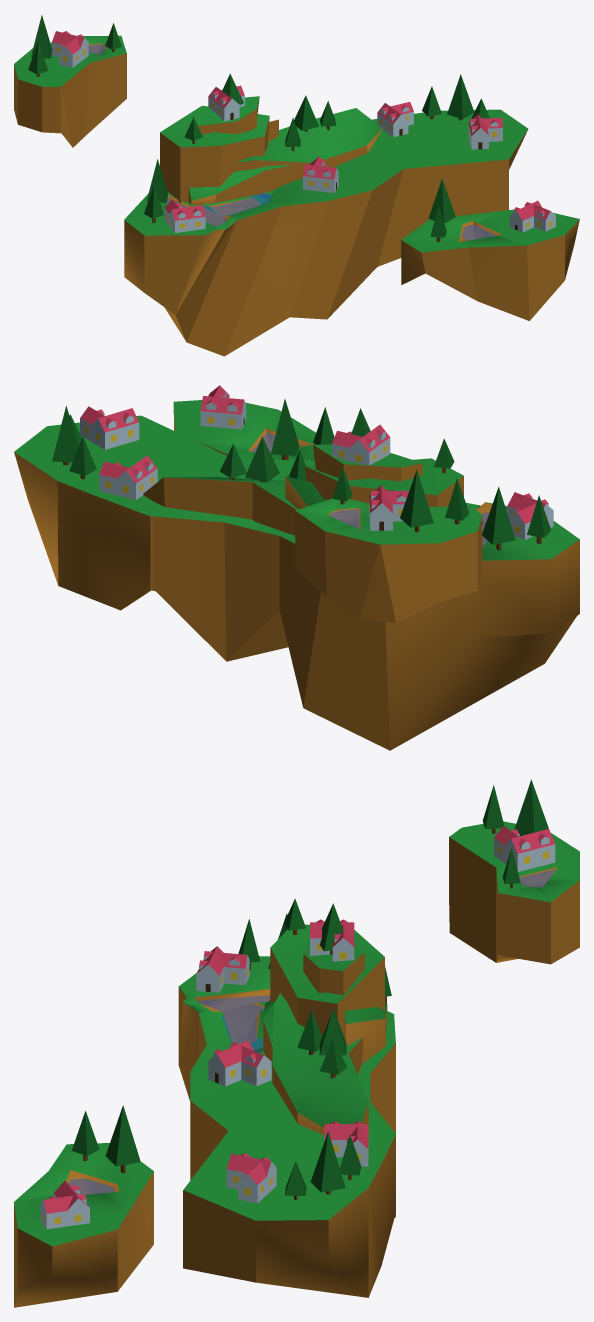
File: islands.dae
The picture shows the model from 3 angles, top to bottom: view 1: azimuth 30°, elevation 25°; view 2: azimuth 150°, elevation 25°; view 3: azimuth 270°, elevation 25°; orthographic projection. The views are drawn at different scales.
Visible parts, largest first — view 1: mainisland, miniisland, float_island, midmount, Cube (×7), mount, Pyramid (×5), mountbott, tip, water2, Cube.3; view 2: mainisland, float_island, Pyramid (×10), Cube (×6), mount, miniisland, midmount, tip, Cube.3 (×3), mountbase2; view 3: mainisland, miniisland, float_island, mount, Cube (×6), midmount, Pyramid (×5), Cube.3 (×4), tip, water2, mountbase2.
Boxes of the visible parts, left/top/right/bottom form: mainisland: left=124, top=109, right=528, bottom=356; miniisland: left=401, top=209, right=579, bottom=320; float_island: left=14, top=35, right=126, bottom=147; midmount: left=160, top=105, right=269, bottom=203; Cube (×7): left=52, top=31, right=542, bottom=232; mount: left=236, top=108, right=382, bottom=180; Pyramid (×5): left=31, top=15, right=474, bottom=223; mountbott: left=188, top=165, right=294, bottom=204; tip: left=193, top=96, right=259, bottom=134; water2: left=166, top=193, right=271, bottom=225; Cube.3: left=59, top=37, right=80, bottom=67; mainisland: left=14, top=415, right=579, bottom=750; float_island: left=295, top=498, right=482, bottom=622; Pyramid (×10): left=52, top=399, right=551, bottom=544; Cube (×6): left=92, top=396, right=553, bottom=530; mount: left=143, top=477, right=297, bottom=535; miniisland: left=173, top=400, right=315, bottom=460; midmount: left=305, top=458, right=463, bottom=506; tip: left=313, top=444, right=422, bottom=481; Cube.3 (×3): left=99, top=430, right=536, bottom=539; mountbase2: left=285, top=476, right=324, bottom=509; mainisland: left=178, top=956, right=395, bottom=1297; miniisland: left=14, top=1143, right=153, bottom=1307; float_island: left=449, top=821, right=579, bottom=964; mount: left=272, top=993, right=368, bottom=1134; Cube (×6): left=53, top=829, right=555, bottom=1226; midmount: left=270, top=924, right=384, bottom=1037; Pyramid (×5): left=71, top=779, right=548, bottom=1192; Cube.3 (×4): left=40, top=952, right=271, bottom=1229; tip: left=303, top=938, right=364, bottom=994; water2: left=199, top=995, right=269, bottom=1052; mountbase2: left=344, top=1003, right=387, bottom=1063.
Bounding box in the file's own units: 969 × 596 × 824.
